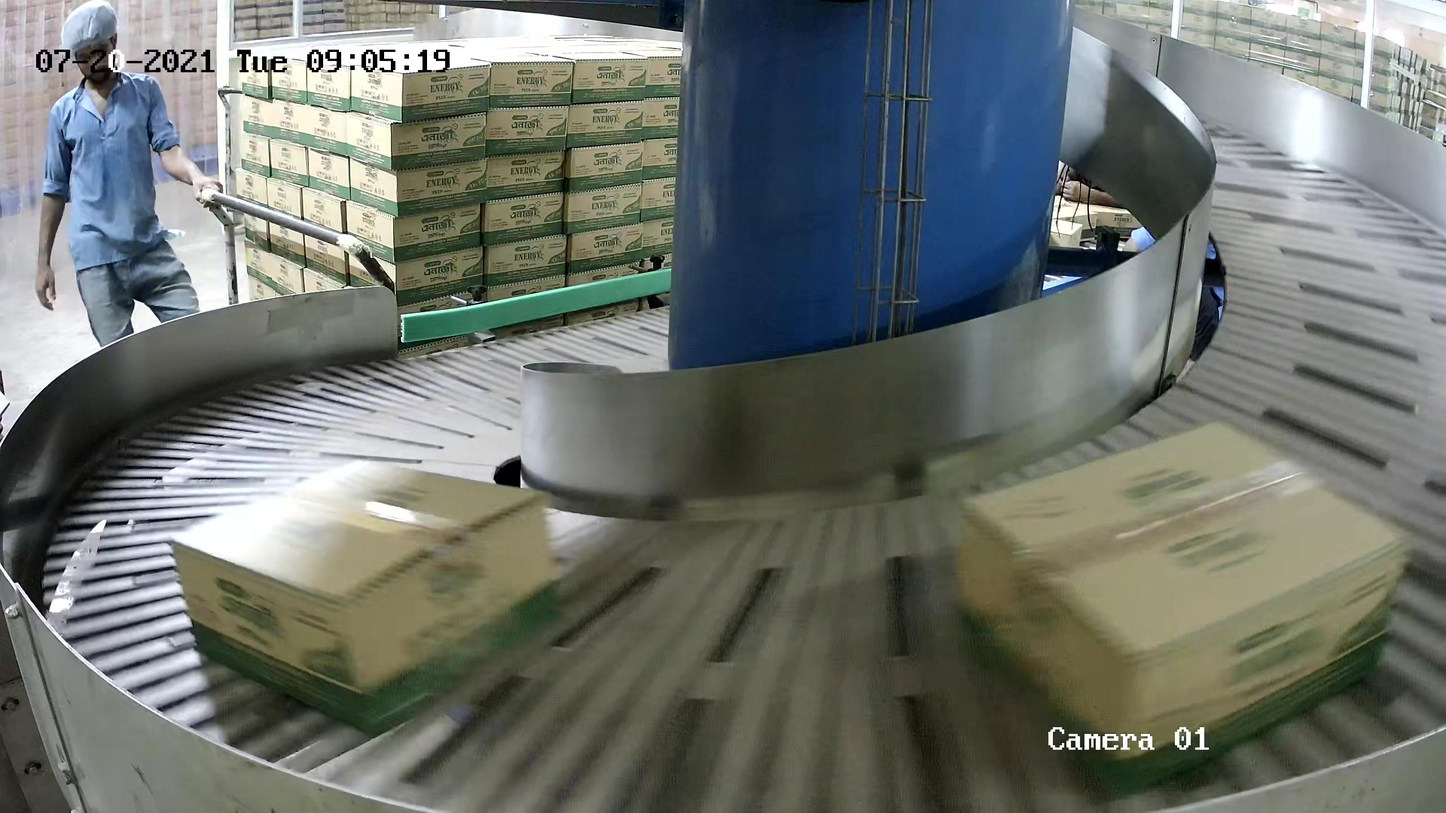Box: (947, 415, 1418, 803), (167, 455, 573, 743)
